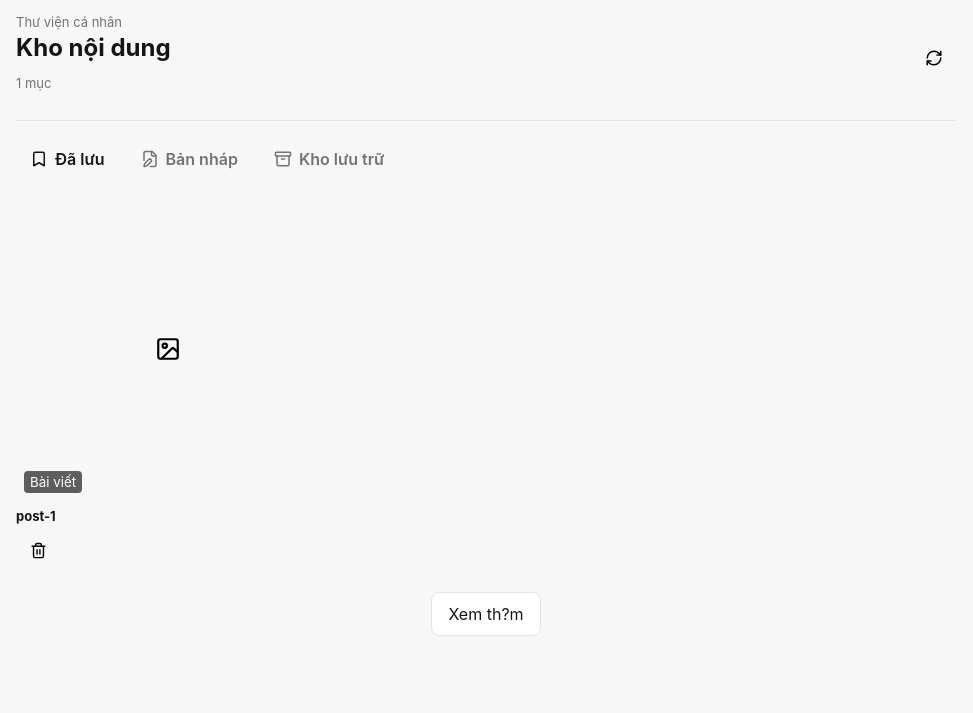
retries the same next page without dropping saved items or duplicating them
Click the button with aria-label "Load more": (486, 614) [431, 592, 541, 636]
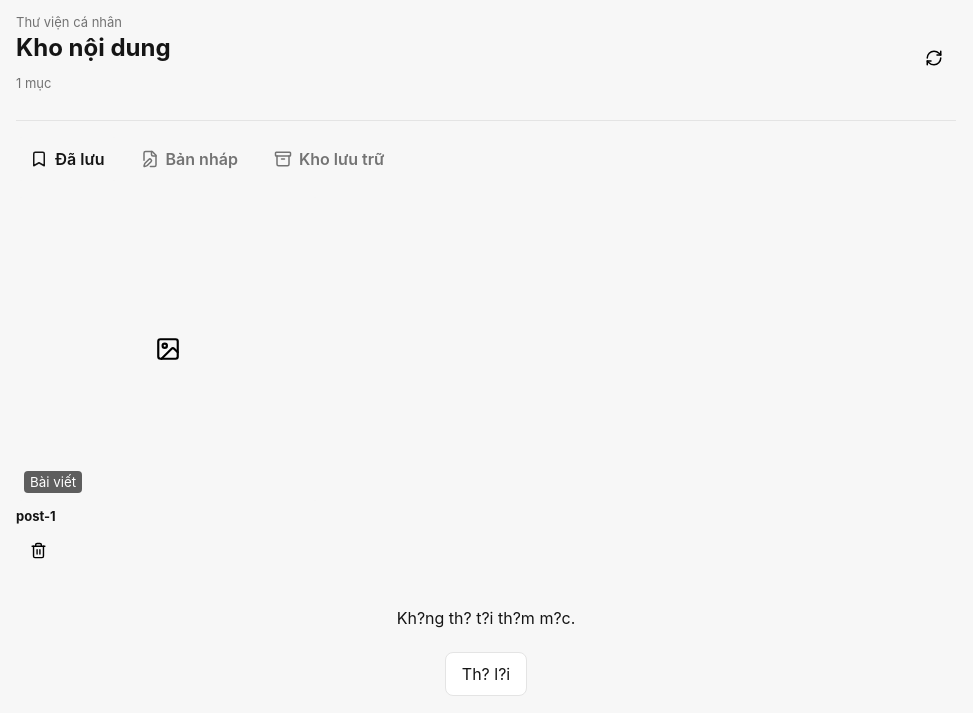
Click the button with aria-label "Retry loading more": (486, 674) [445, 652, 527, 696]
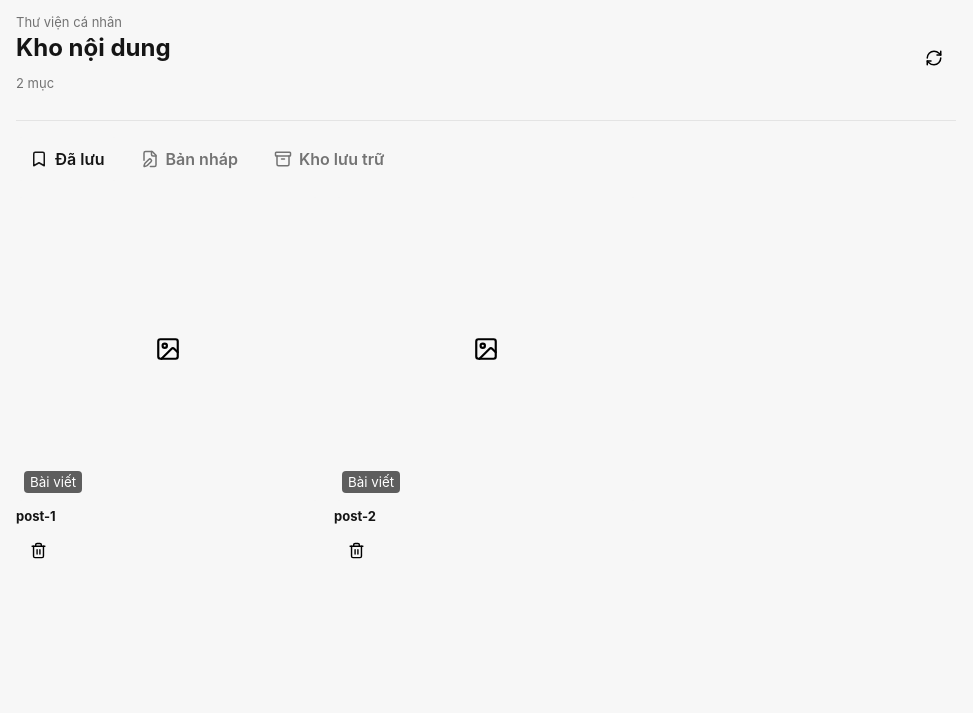
expect the text "post-1" is shown once: met, box [16, 508, 56, 524]
expect the text "post-2" is shown: met, box [334, 508, 376, 524]
